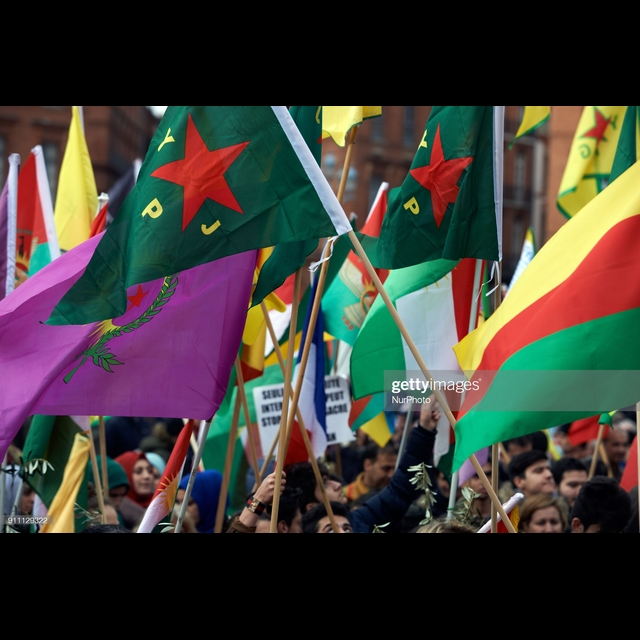YPJ: (140, 124, 260, 241)
